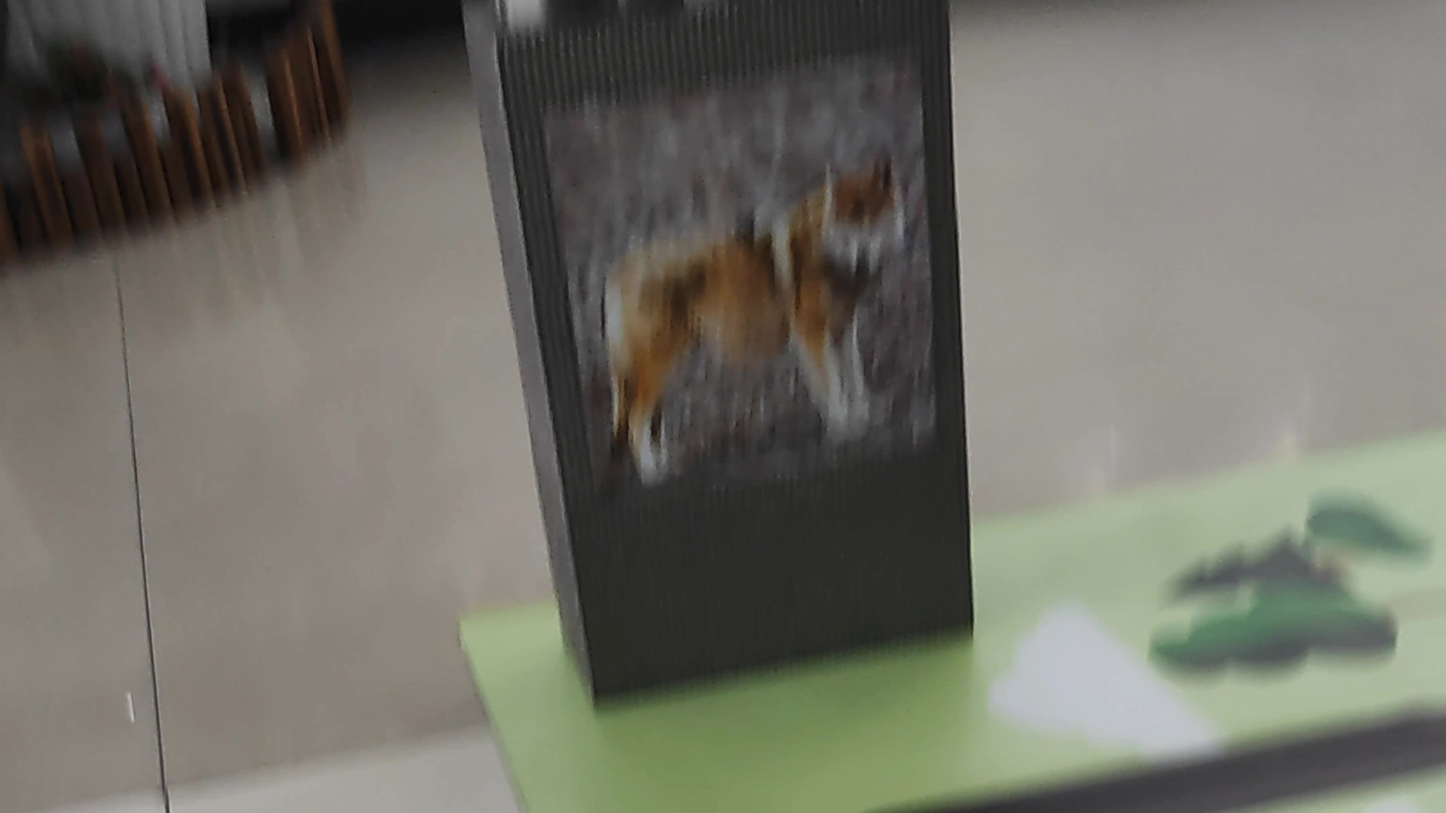wolf: (582, 147, 927, 463)
